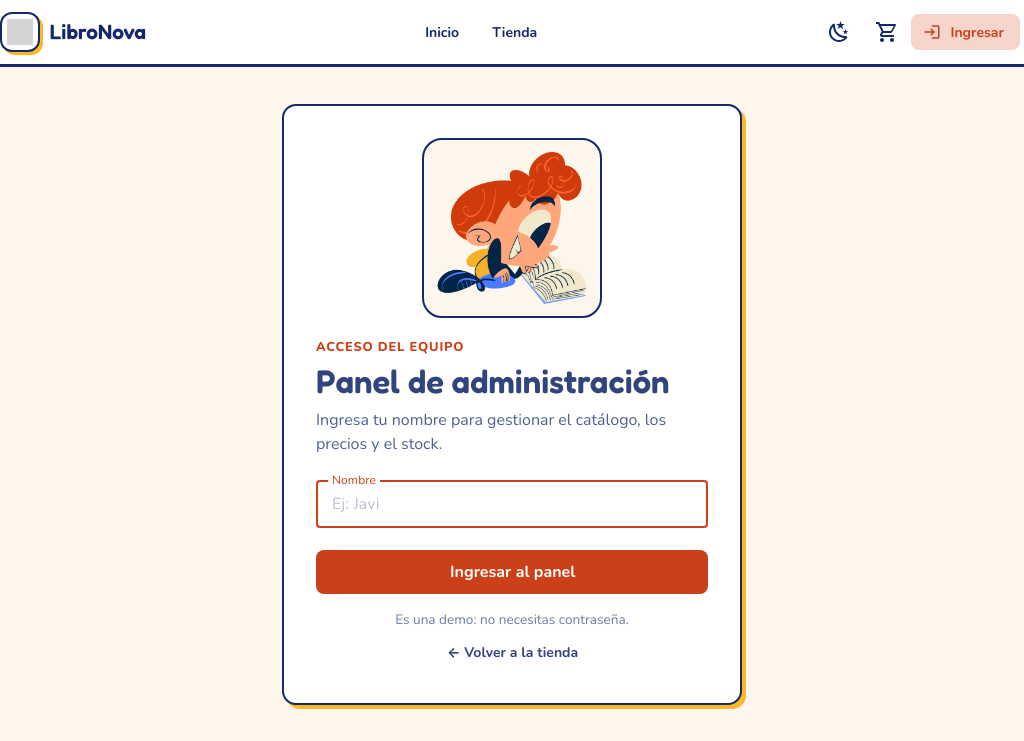
Test: Acceso al panel de administración › permite ingresar y vuelve al panel
The image size is (1024, 741).
Type "ana" into the field labelled "Nombre".
click(512, 505); type("ana")  # box [316, 481, 708, 529]
Then press Enter
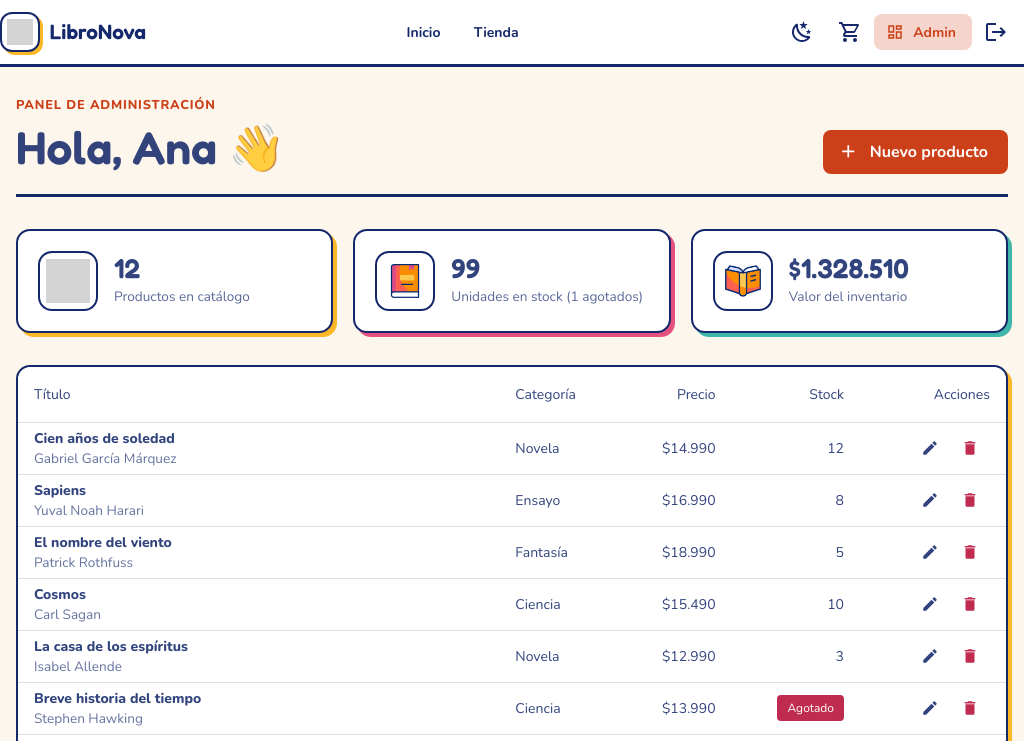
Expected: the heading "Hola, Ana 👋" is shown, [16, 121, 286, 174]
Expected: the number of rows with test id "fila-producto" is more than 0
